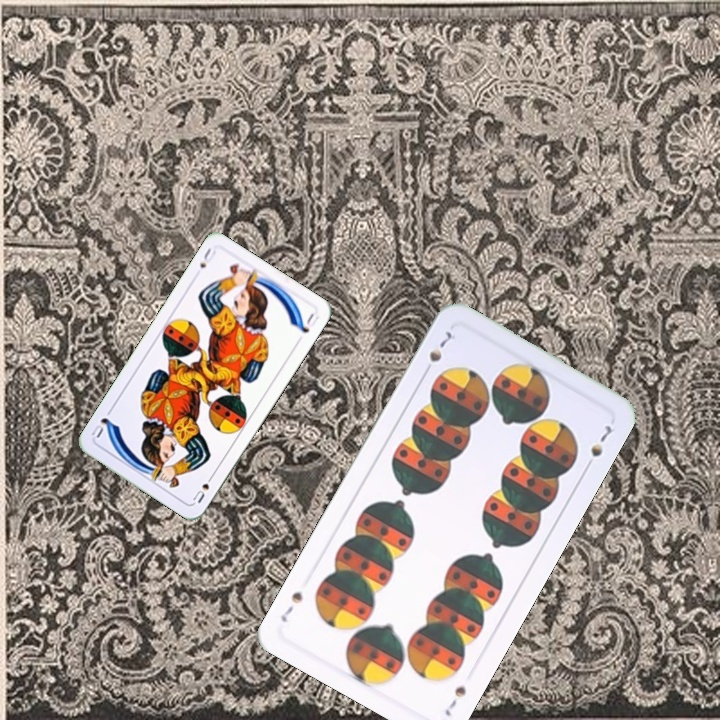S7: (419, 327, 455, 378), (440, 682, 469, 719)
SU: (188, 469, 217, 506), (195, 244, 219, 271)
